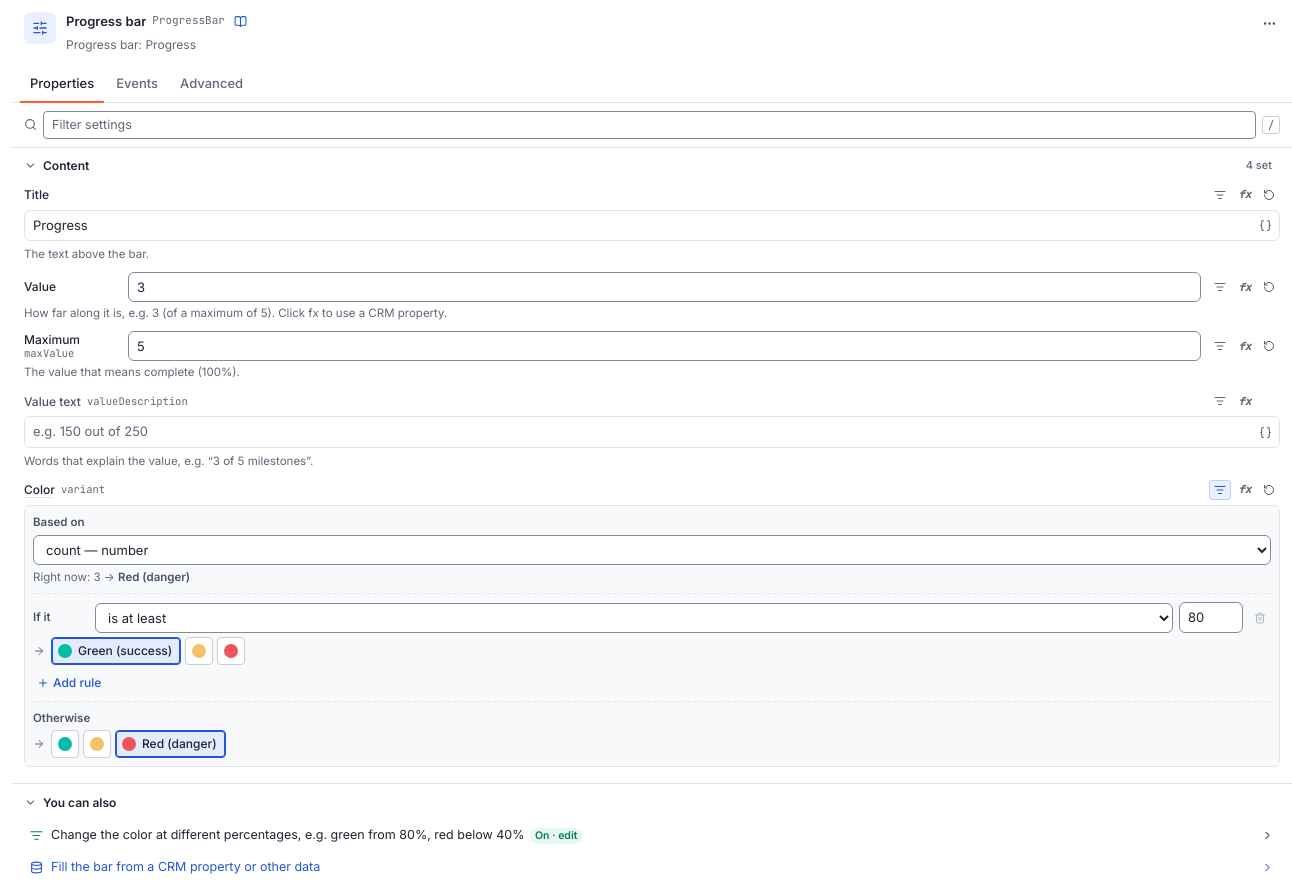
Test: Rules in the Properties tab › an emptied threshold for a number shows what to enter, and validation stops the export
Expected: the text "Enter a number." is not shown
Clear the field named "Rule 1 value to compare with". click: x=1211, y=618
box: [1179,602,1243,633]
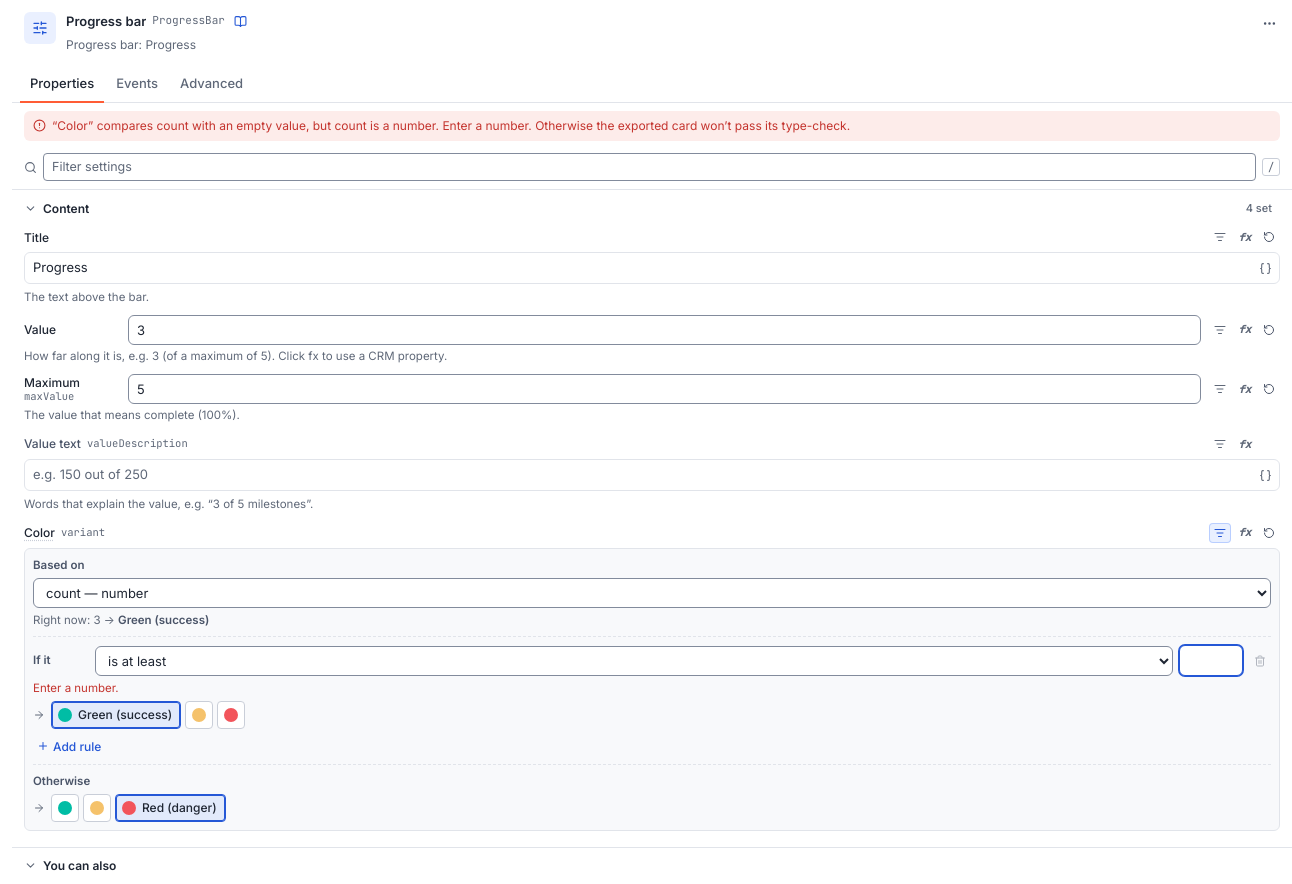
Expected: the text "Enter a number." is shown, [33,681,119,695]
